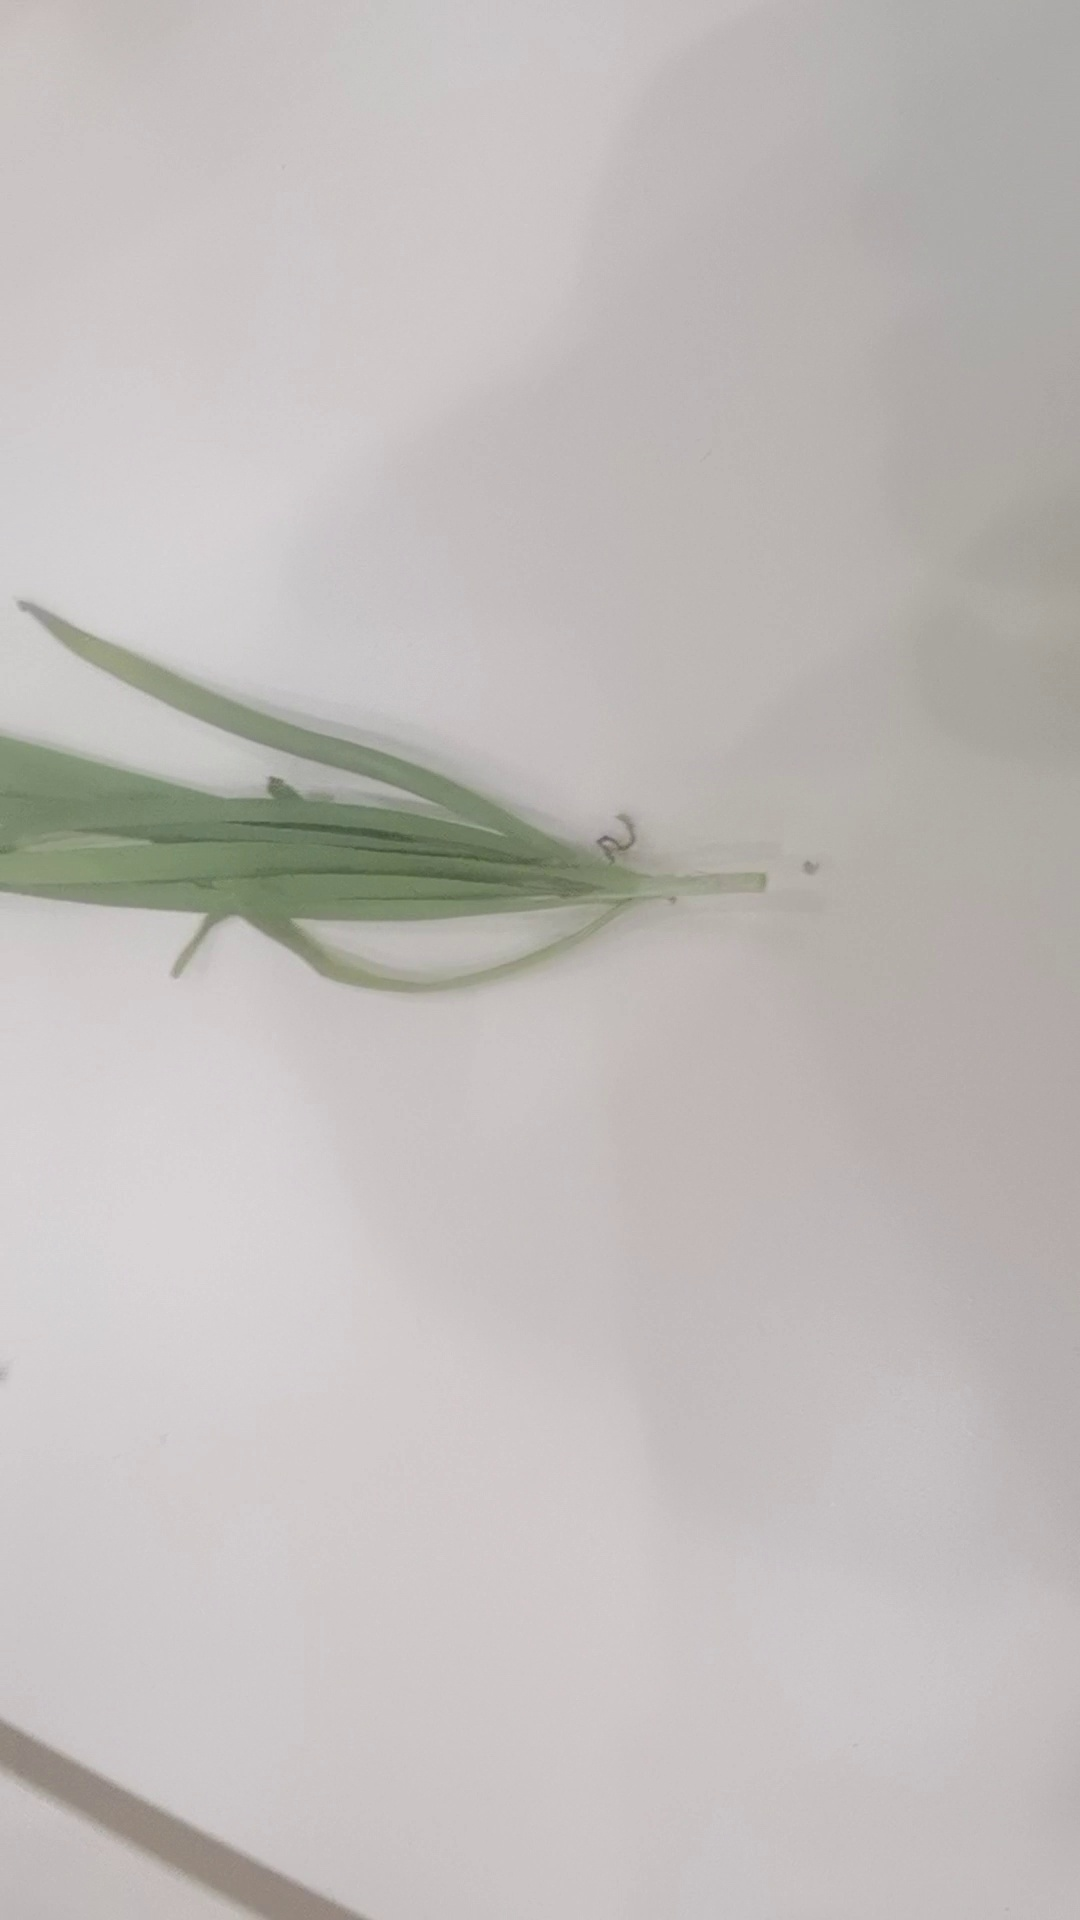chives: (4, 593, 771, 982)
